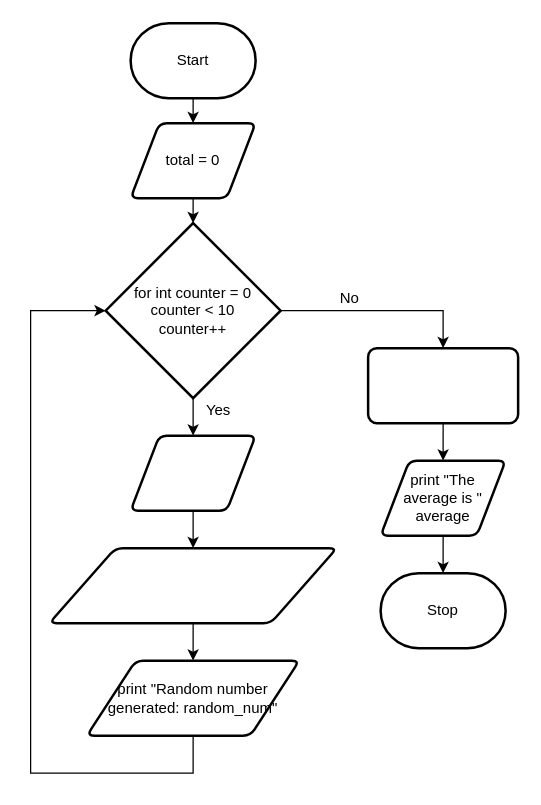
Some shapes in this 541 by 805 pixel diagram are drawn without their labels. Here are the shapes that lost their labels. From the top down, the centre of each, then its label:
[442,385]: average = sum(num_array) / 10
[192,472]: Generate random_num
[193,585]: num_array.append(random_num)
